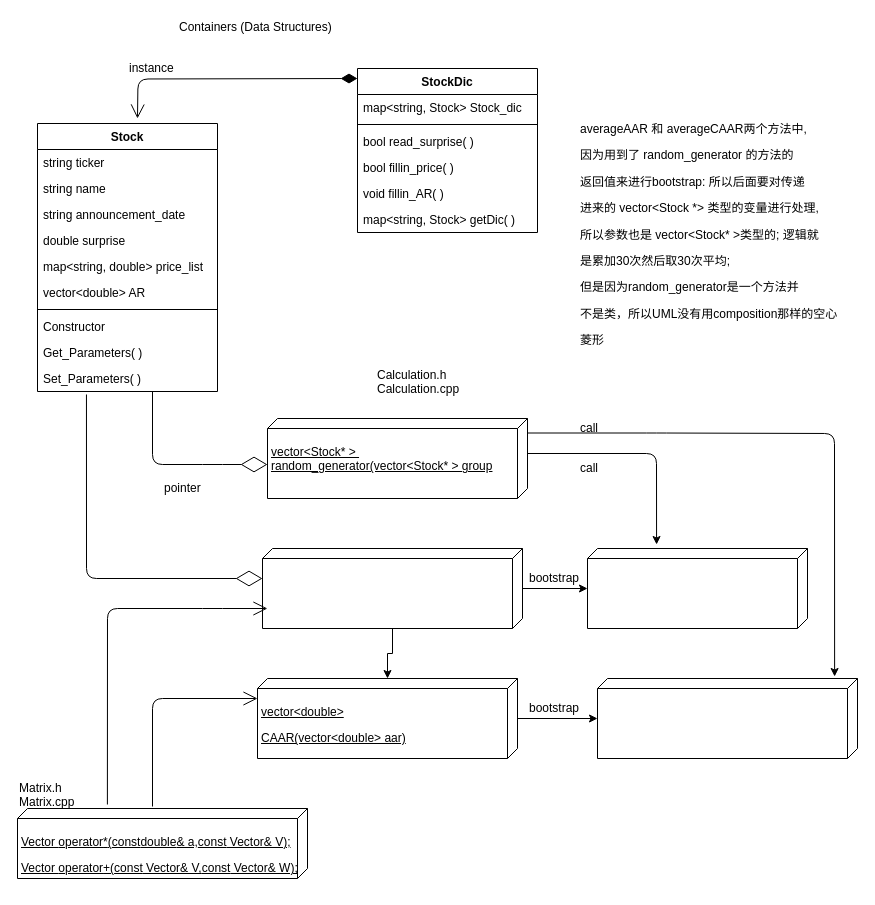
This 875x905 diagram has some shape labels left out. Each missing label, with the centre of its shape:
"vector<double> AAR(vector<Stock* > selected)" belongs at (392,588).
"vector<double> averageAAR(vector<Stock* > group)" belongs at (697,588).
"vector<double> averageCAAR(vector<Stock* > group)" belongs at (727,718).
